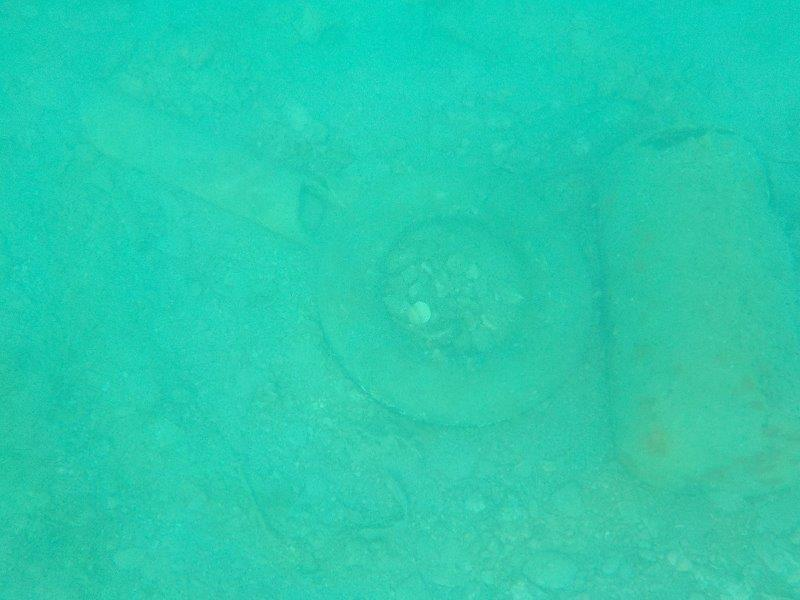bottle: (524, 90, 647, 181)
tire: (308, 162, 601, 433)
